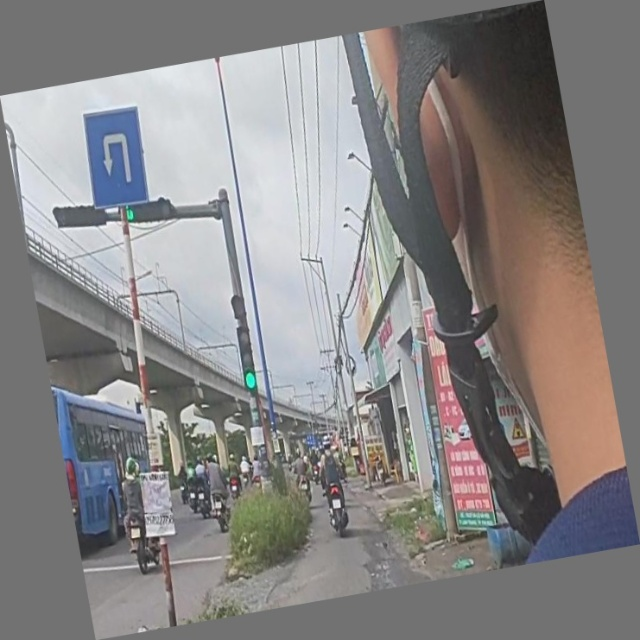I.409: (72, 91, 160, 226)
